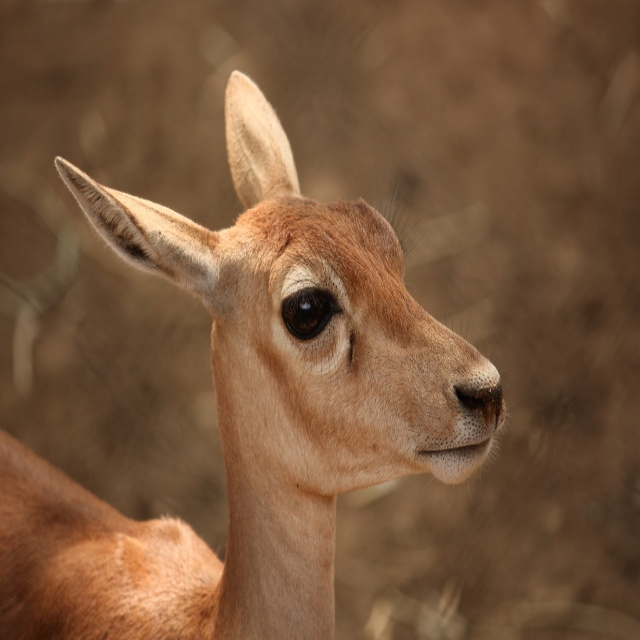Deer: (0, 67, 505, 639)
